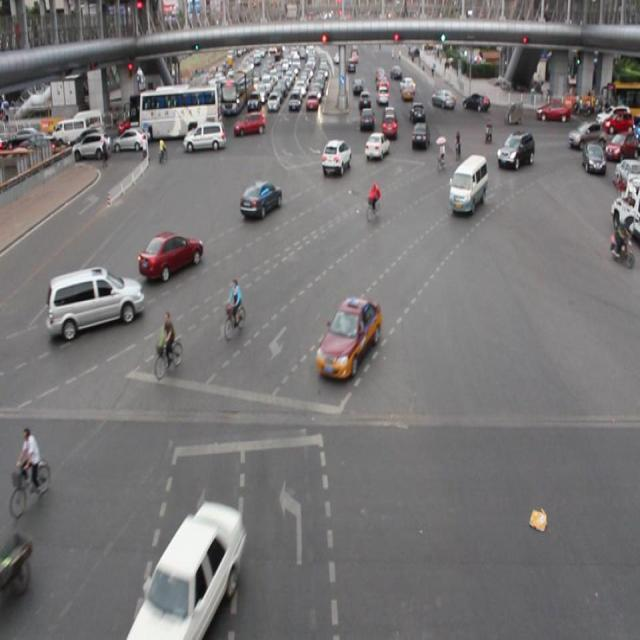car: (135, 503, 245, 640), (316, 294, 381, 378), (138, 229, 204, 282), (238, 178, 282, 221), (495, 132, 534, 173), (321, 138, 352, 177), (364, 130, 388, 164), (409, 120, 428, 149)
truck: (48, 264, 144, 336), (447, 153, 489, 213)
